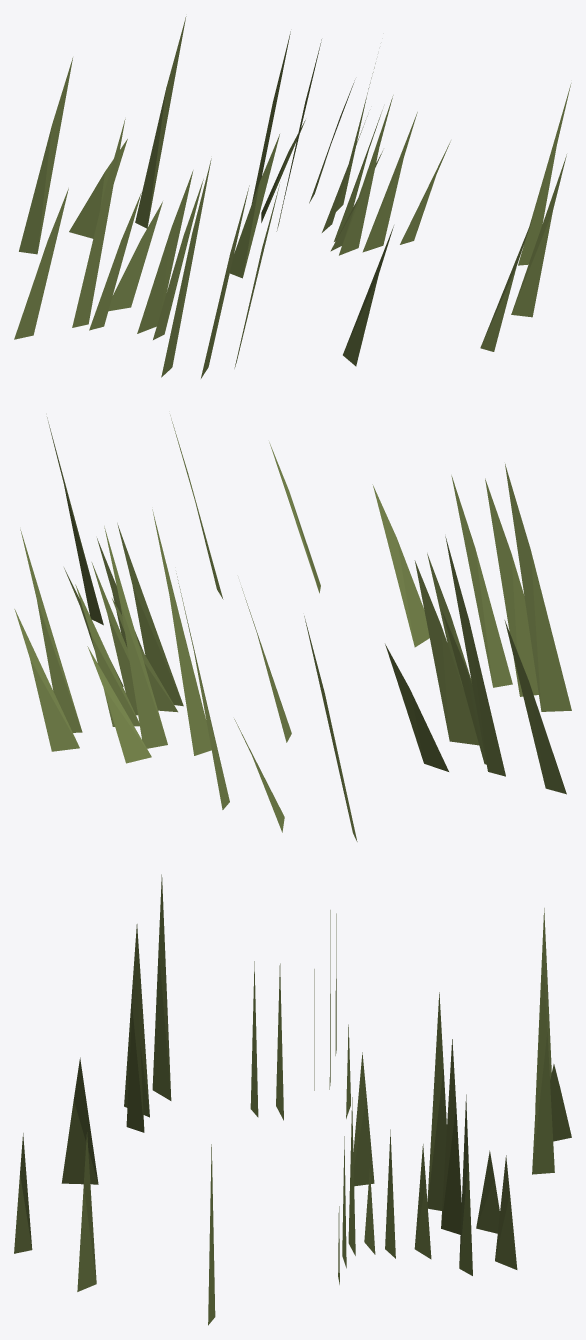
Rendered from arbustos-biblioteca-v7.glb.
3 views of the same model, one above another, from view 1: azimuth 30°, elevation 25°; view 2: azimuth 150°, elevation 25°; view 3: azimuth 270°, elevation 25° (orthographic). The views are drawn at different scales.
Visible parts, largest first — view 1: Grama_complementar_V07; view 2: Grama_complementar_V07; view 3: Grama_complementar_V07.
Boxes of the visible parts, box(x1,y1,x2,y2) form: Grama_complementar_V07: box(14, 16, 571, 378); Grama_complementar_V07: box(14, 415, 571, 841); Grama_complementar_V07: box(14, 874, 571, 1325).
Size of what is drawn, in the model's own units: 0.2792 by 0.1087 by 0.2191.
